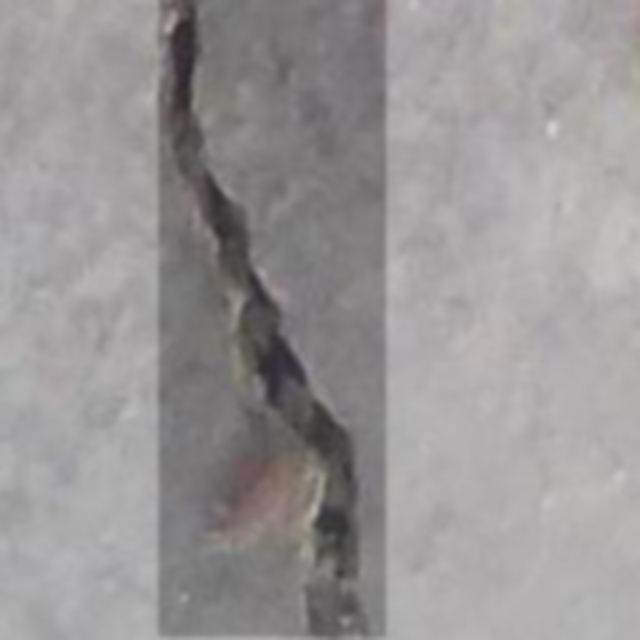SurfaceCrack: (154, 0, 390, 640)
